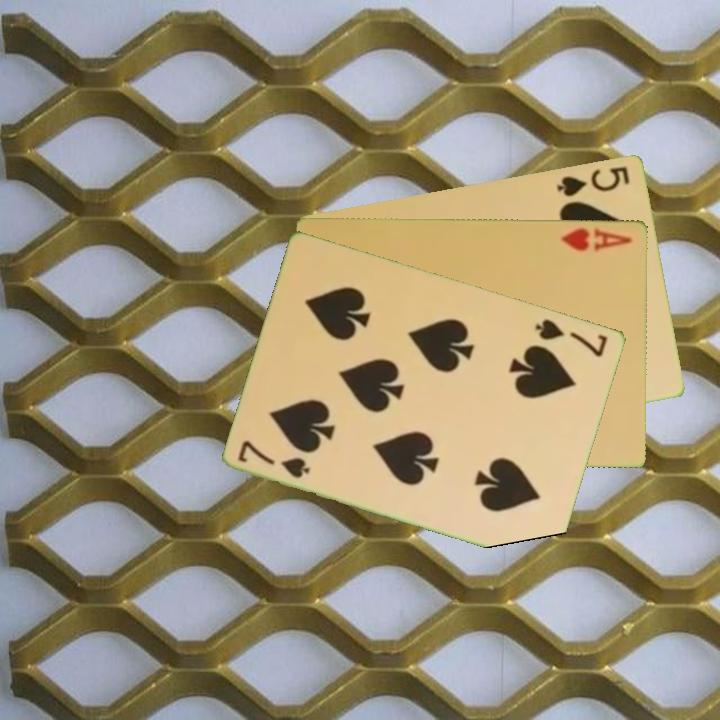5s: (553, 162, 633, 199)
7s: (532, 315, 611, 360), (235, 436, 314, 481)
Ah: (557, 224, 635, 254)
